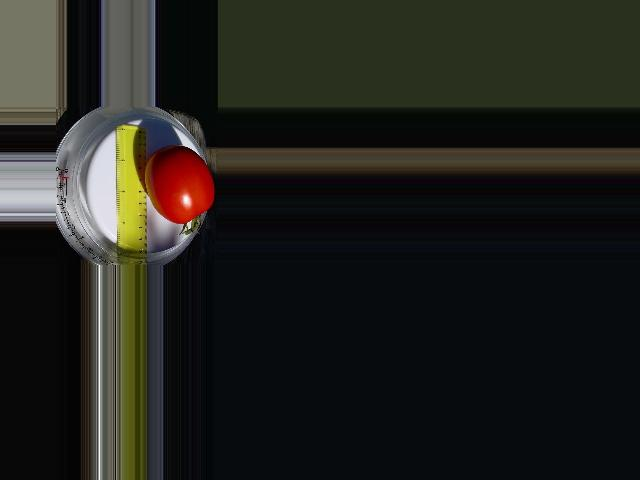tomato: (143, 146, 215, 224)
